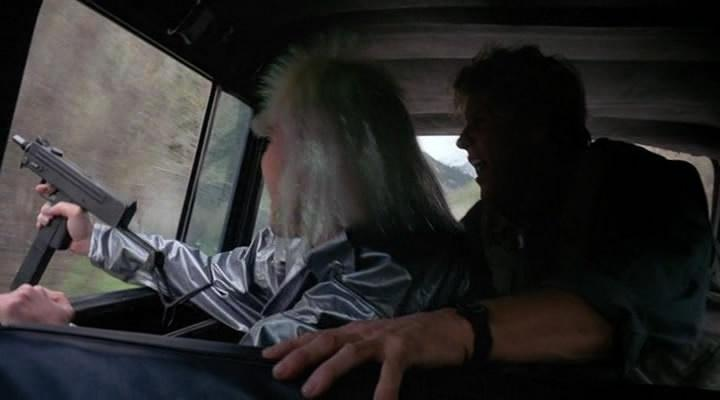gun: (0, 123, 143, 301)
